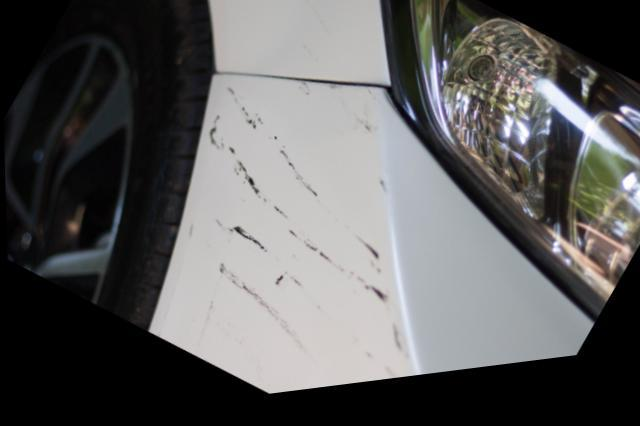scratch: (167, 78, 420, 392)
